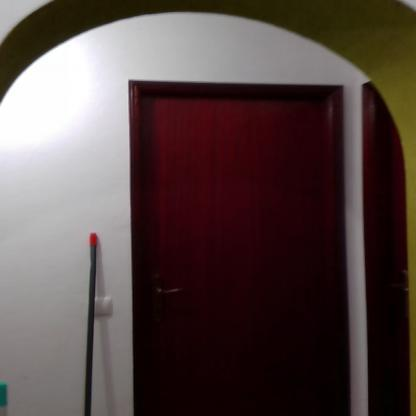door: (143, 93, 335, 415)
lever: (156, 287, 191, 298)
